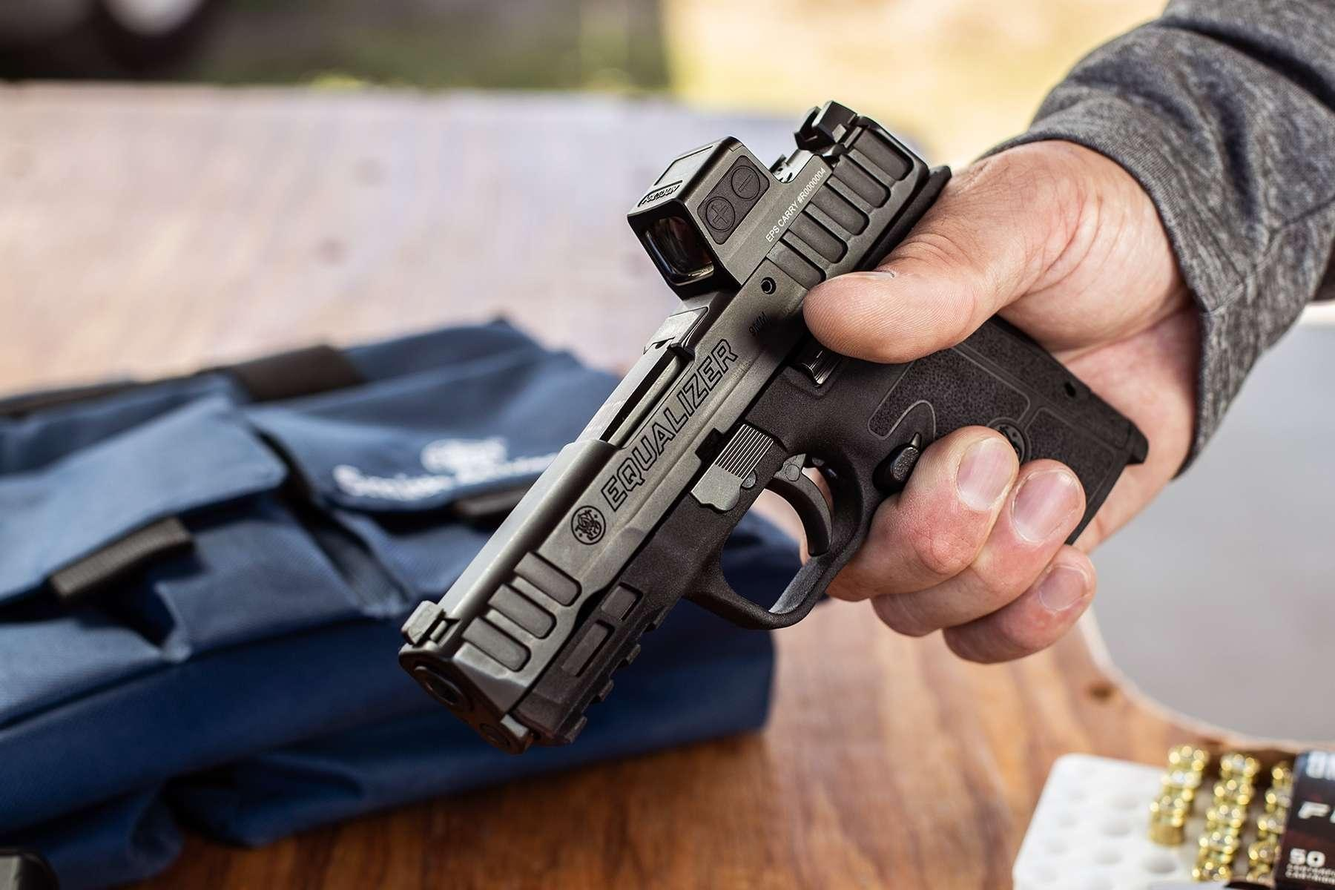gun: (392, 98, 1157, 752)
